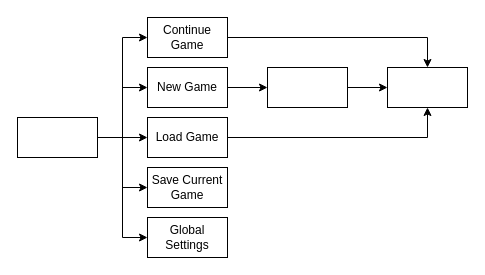
The diagram is 485 pixels wide and 275 high, and some of its shapes have lost their labels. The shapes that lost their labels are listed below. From the top down, each one's centre as x and y in pixels, then its label:
At pixel 307 87: "New Game Settings".
At pixel 427 87: "Game App".
At pixel 57 137: "Main Menu".
